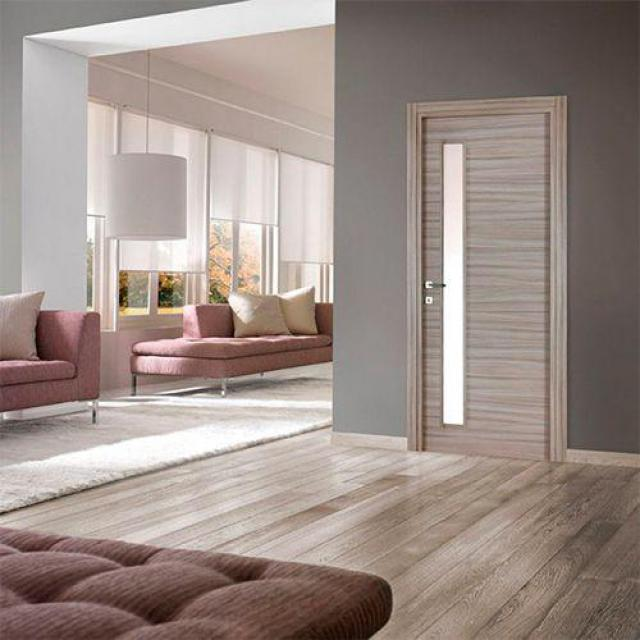door: (399, 91, 569, 467)
